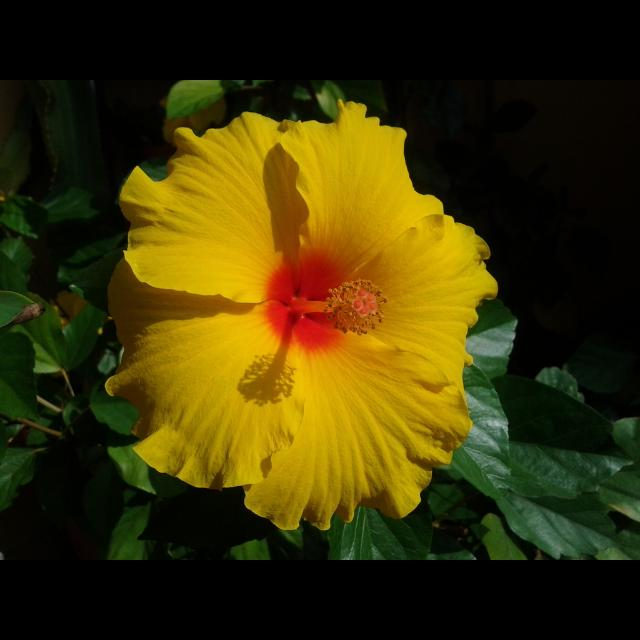Flower: (95, 106, 479, 538)
